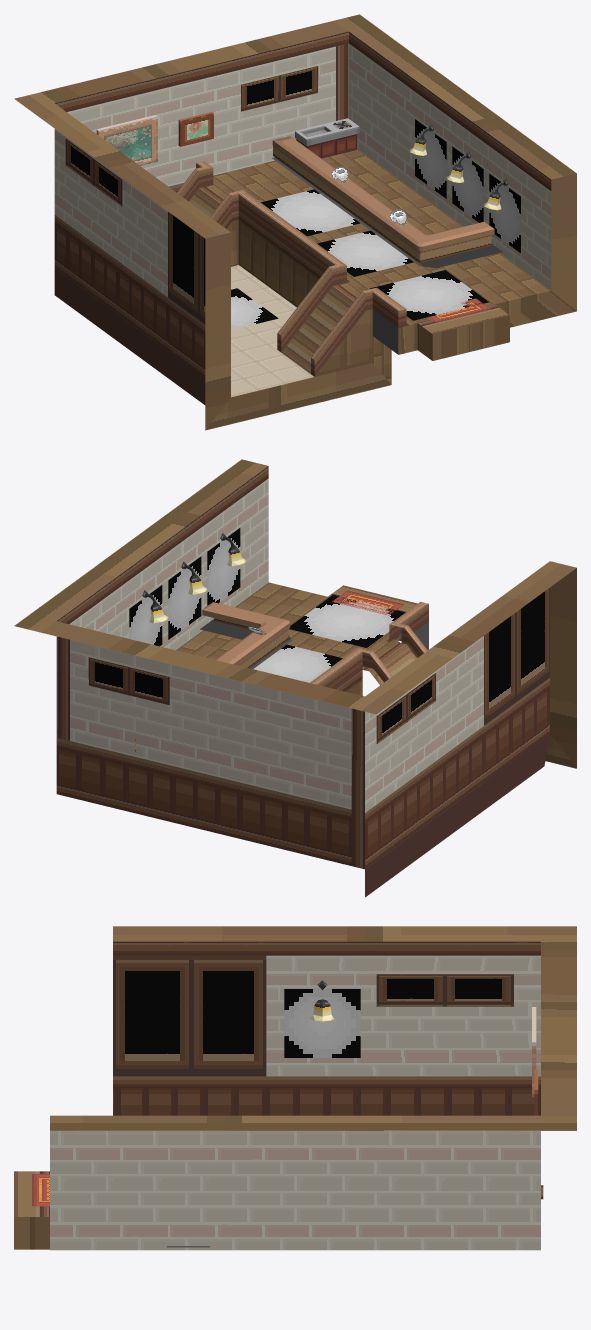
The model's file is CAFE1-1.obj.
3 views of the same model, one above another, from view 1: azimuth 30°, elevation 25°; view 2: azimuth 150°, elevation 25°; view 3: azimuth 270°, elevation 25° (orthographic). The views are drawn at different scales.
Visible parts, largest first — view 1: polygon2, polygon4, polygon1, polygon13, polygon12, polygon3, polygon9, polygon11, polygon7, polygon10, polygon6, polygon16 (+6 smaller); view 2: polygon4, polygon1, polygon2, polygon13, polygon3, polygon12, polygon7, polygon10, polygon17, polygon5, polygon8, polygon6; view 3: polygon4, polygon1, polygon3, polygon2, polygon13, polygon10, polygon5.
Boxes of the visible parts, x1,y1,x2,y2 form: polygon2: [14, 14, 576, 430]; polygon4: [54, 43, 551, 296]; polygon1: [54, 31, 551, 404]; polygon13: [231, 119, 520, 329]; polygon12: [176, 161, 406, 376]; polygon3: [65, 66, 318, 324]; polygon9: [231, 265, 313, 397]; polygon11: [226, 219, 372, 376]; polygon7: [272, 136, 494, 251]; polygon10: [189, 188, 509, 373]; polygon6: [273, 145, 491, 262]; polygon16: [96, 115, 157, 165]; polygon4: [69, 478, 483, 812]; polygon1: [56, 466, 549, 897]; polygon2: [14, 459, 576, 768]; polygon13: [129, 528, 405, 682]; polygon3: [88, 588, 549, 743]; polygon12: [310, 601, 428, 689]; polygon7: [202, 602, 290, 665]; polygon10: [333, 585, 417, 685]; polygon17: [142, 533, 245, 623]; polygon5: [332, 590, 404, 615]; polygon8: [200, 619, 291, 668]; polygon6: [135, 618, 288, 751]; polygon4: [50, 955, 540, 1250]; polygon1: [39, 941, 540, 1216]; polygon3: [113, 955, 513, 1076]; polygon2: [14, 926, 576, 1249]; polygon13: [284, 989, 360, 1057]; polygon10: [14, 1171, 39, 1216]; polygon5: [32, 1174, 49, 1206].
Bounding box in the file's own units: 3.36 × 1.78 × 3.91.
